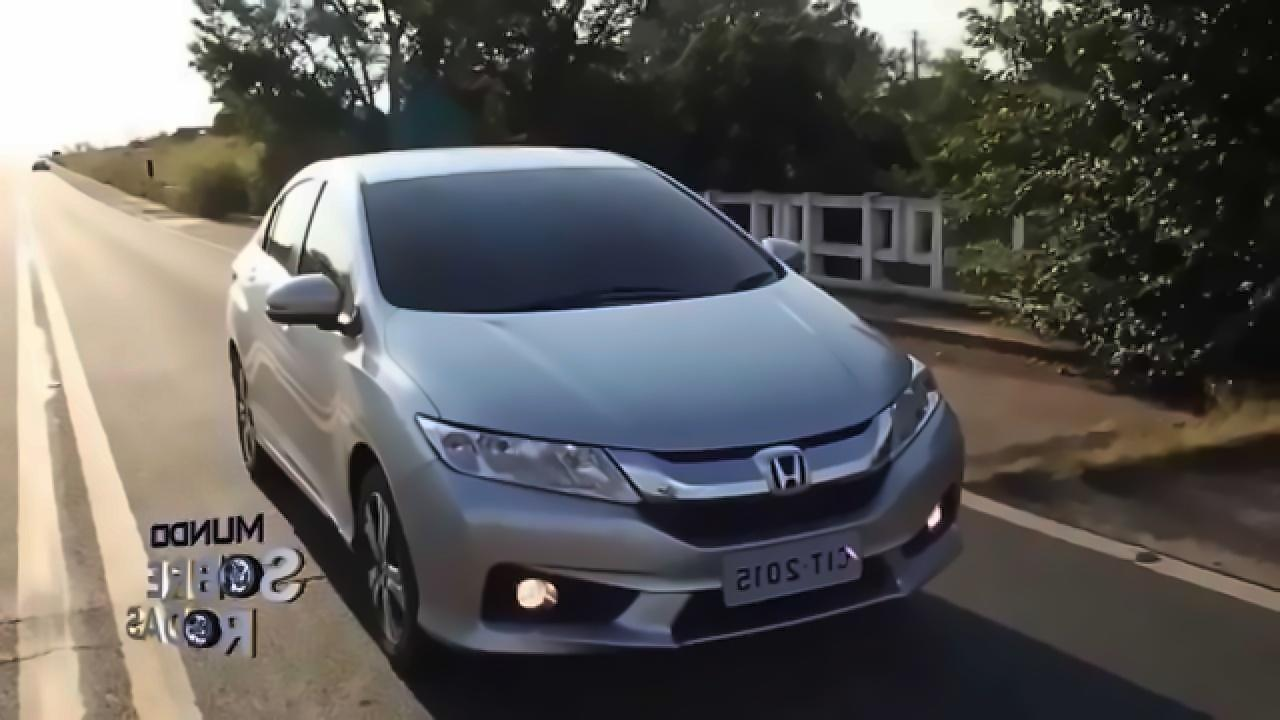Car hood: (375, 271, 918, 458)
Driver-s door - -F-R-: (272, 137, 372, 546)
Fender - -F-R-: (348, 287, 440, 575)
Front bumper: (395, 390, 999, 660)
Headlight - -L-: (865, 350, 938, 477)
Headlight - -R-: (407, 410, 637, 509)
Passenger-s door - -R-R-: (236, 138, 320, 489)
Side bumper - -R-: (242, 406, 365, 565)
Side mirror - -L-: (760, 232, 810, 276)
Side mirror - -R-: (265, 276, 351, 341)
